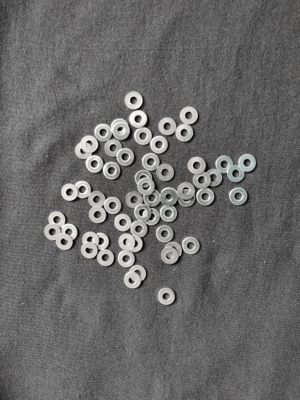circle: (130, 110, 148, 129), (111, 119, 129, 138), (239, 154, 257, 172), (227, 165, 245, 183), (216, 156, 234, 174), (188, 157, 206, 175), (157, 164, 175, 182), (160, 205, 178, 223), (134, 204, 152, 222), (137, 178, 155, 196), (135, 170, 153, 188), (151, 136, 169, 154), (125, 92, 143, 110), (114, 214, 132, 232), (92, 233, 110, 251), (104, 197, 122, 215), (103, 162, 121, 180), (113, 122, 131, 140), (95, 124, 113, 142), (86, 156, 104, 174), (81, 136, 99, 154), (176, 124, 193, 143), (230, 188, 247, 206), (205, 170, 223, 187), (194, 171, 211, 189), (197, 189, 215, 206), (183, 237, 200, 255), (165, 242, 183, 259), (162, 247, 179, 265), (158, 288, 176, 305), (181, 107, 198, 125), (159, 118, 176, 136), (178, 190, 196, 207), (160, 190, 178, 207), (135, 128, 152, 146), (126, 236, 144, 253), (97, 250, 115, 267), (89, 207, 107, 224), (75, 181, 92, 199), (61, 184, 79, 201), (117, 149, 135, 166), (61, 224, 78, 242), (130, 265, 147, 282), (124, 272, 141, 289), (178, 183, 195, 200), (161, 188, 178, 205), (157, 226, 174, 243), (143, 209, 160, 226), (144, 190, 161, 207), (143, 154, 160, 171), (126, 192, 143, 209), (131, 221, 148, 238), (119, 234, 136, 251), (118, 251, 135, 268), (83, 232, 100, 249), (81, 242, 98, 259), (89, 191, 106, 208), (105, 140, 122, 157), (49, 212, 66, 229), (56, 234, 73, 251), (76, 143, 92, 160), (45, 224, 61, 241)
